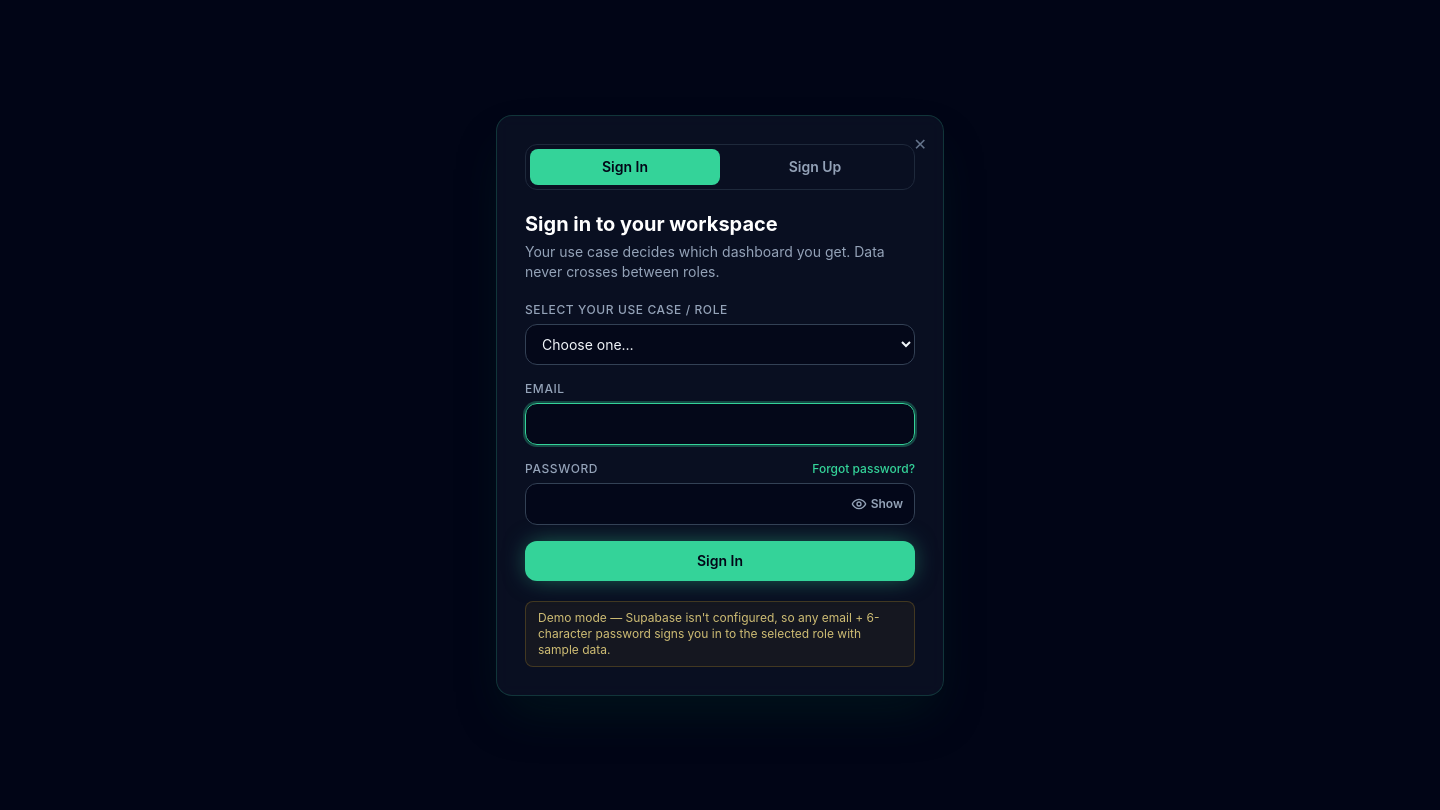
Scenario: AuthModal › switches to recovery and drops the role and password fields
The image size is (1440, 810).
Click the button "Forgot password?": (864, 468) [812,460,915,476]
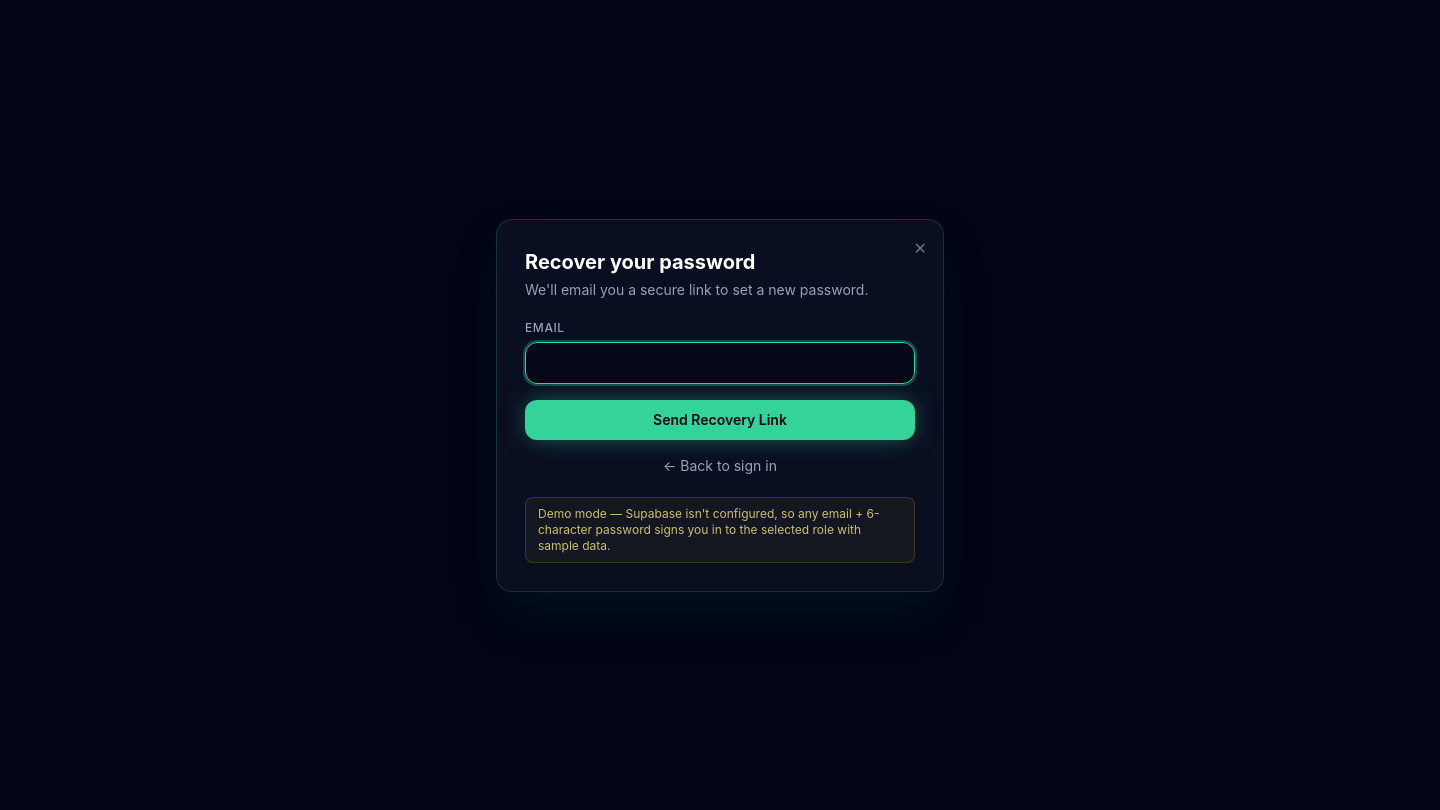
Check: the heading "Recover your password" is shown, box [525,250,755,274]
Check: the label labelled "Select your use case" is gone
Check: the button "Sign Up" is gone
